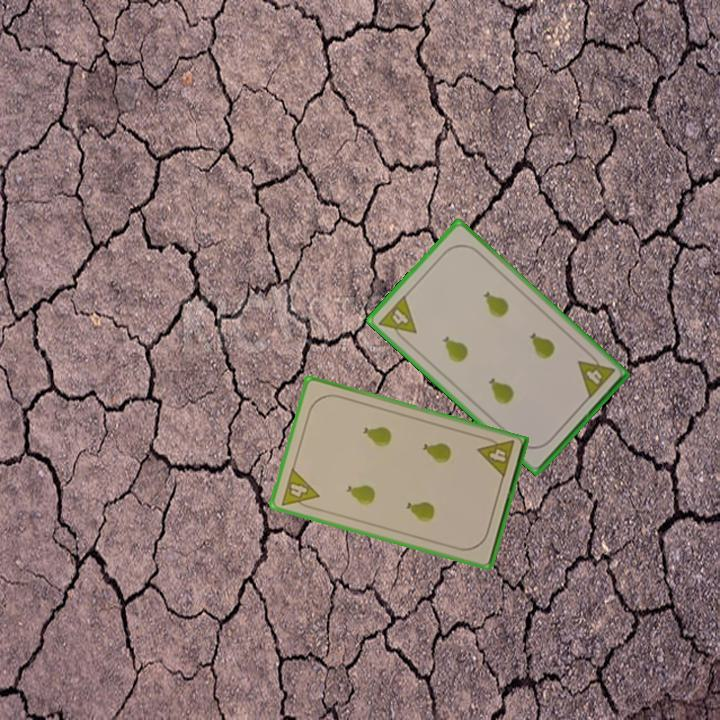4p: (374, 291, 420, 346), (574, 348, 617, 402), (277, 464, 322, 513), (474, 433, 517, 481)
